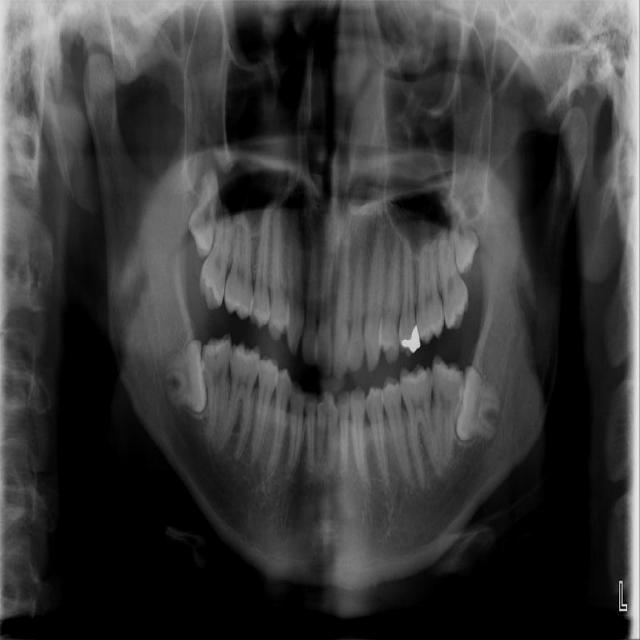Filling: (399, 324, 419, 352)
impacted tooth: (457, 364, 505, 440), (160, 341, 209, 412), (439, 193, 479, 273), (188, 154, 218, 258)
